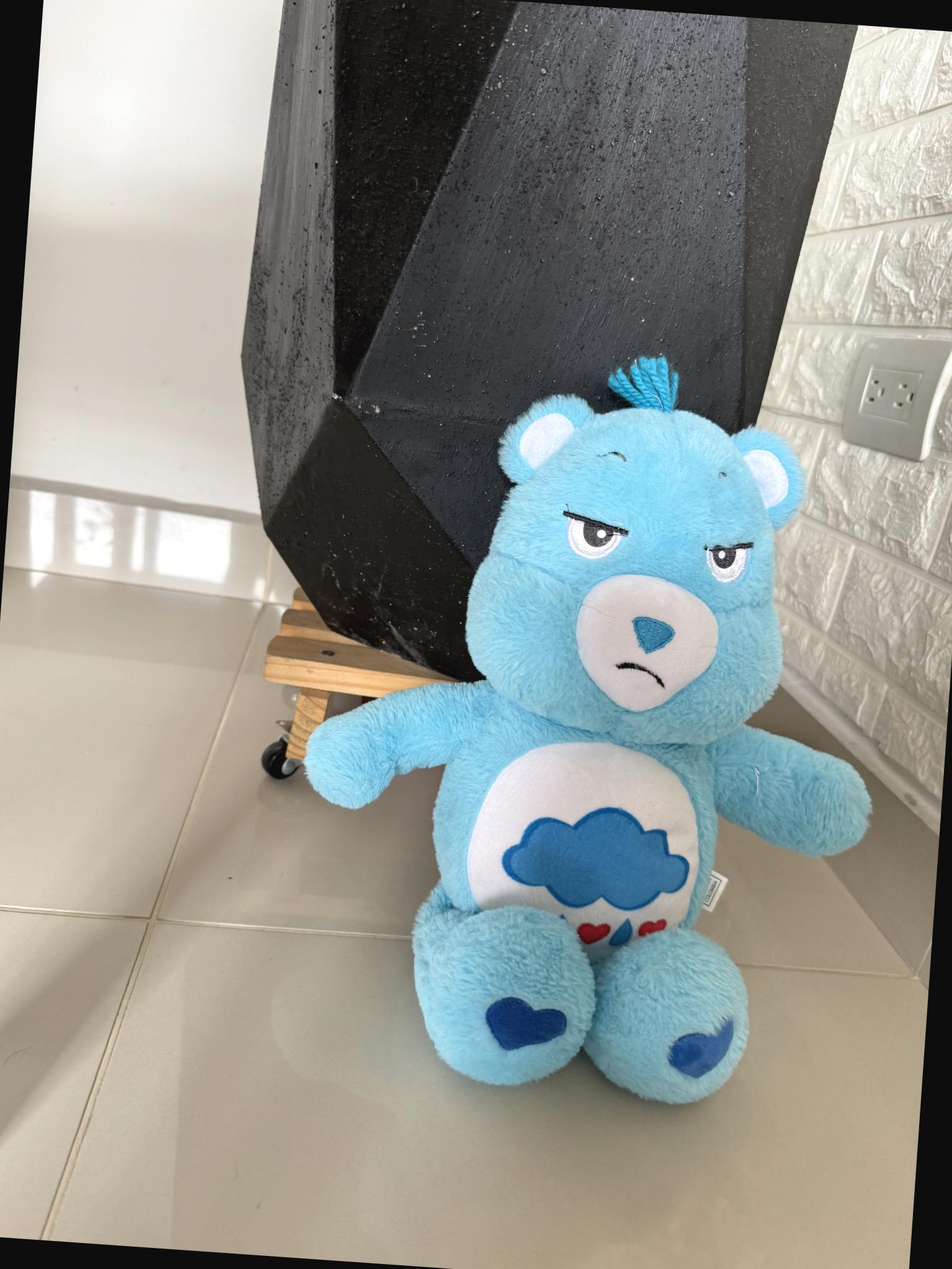peluche_Juan Jose: (388, 363, 813, 1123)
